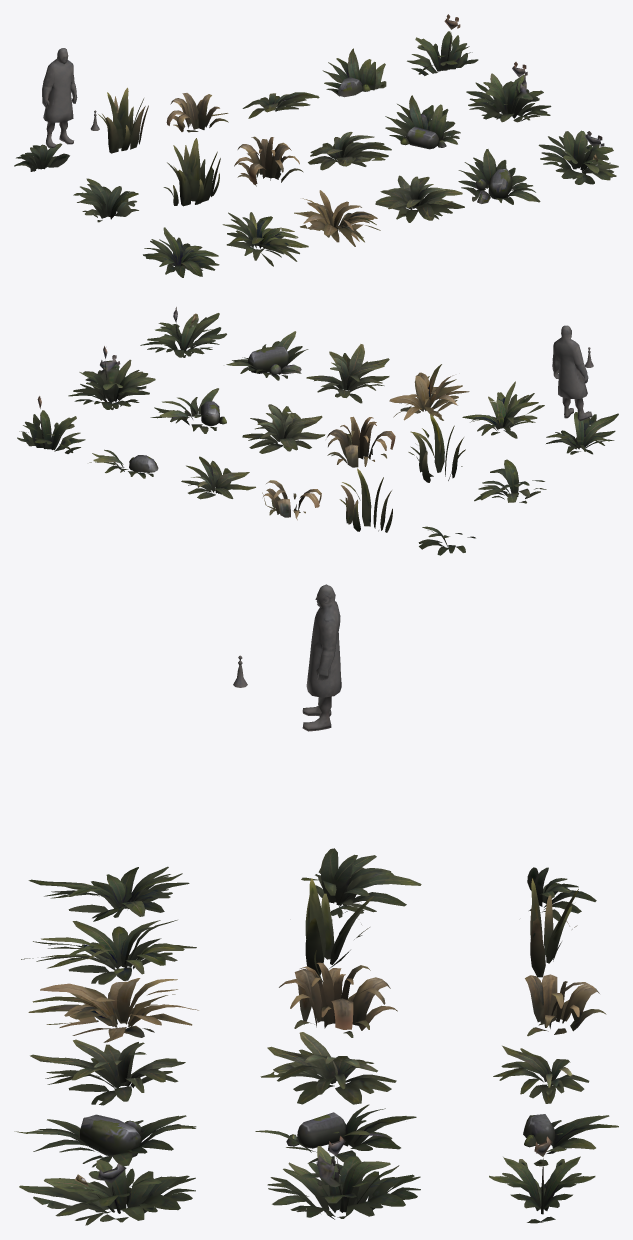
File: shrub_sheet.glb
3 views of the same model, one above another, from view 1: azimuth 30°, elevation 25°; view 2: azimuth 150°, elevation 25°; view 3: azimuth 270°, elevation 25° (orthographic). The views are drawn at different scales.
Visible parts, largest first — view 1: ed844dfb_f31e_47f3_8a6b_817a17704693; view 2: ed844dfb_f31e_47f3_8a6b_817a17704693; view 3: ed844dfb_f31e_47f3_8a6b_817a17704693.
Part boxes in pixels (left/top/right/bottom): ed844dfb_f31e_47f3_8a6b_817a17704693: left=14, top=14, right=618, bottom=277; ed844dfb_f31e_47f3_8a6b_817a17704693: left=17, top=307, right=618, bottom=555; ed844dfb_f31e_47f3_8a6b_817a17704693: left=14, top=584, right=618, bottom=1225.
Size of the model in its own units: 0.9995 by 0.353 by 0.6704.
1 material, 1 textured.
